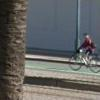bicycles: (68, 50, 100, 74)
